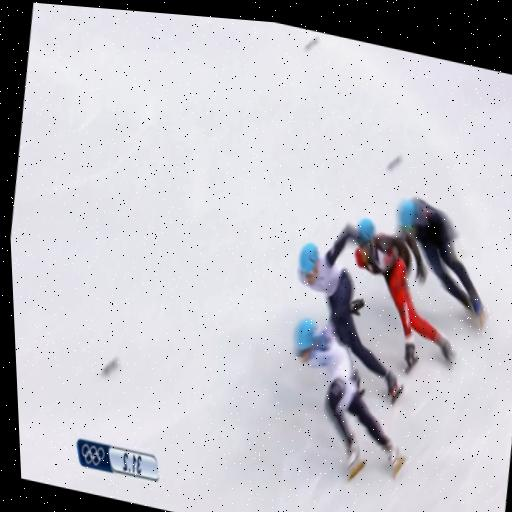Skater: (297, 226, 402, 404), (293, 319, 404, 479), (354, 219, 453, 372), (397, 198, 484, 327)
